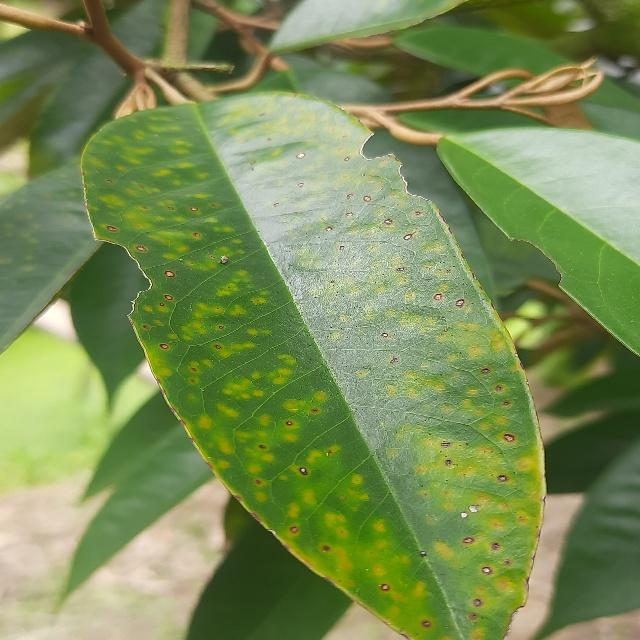Leaf Spot: (69, 77, 558, 640)
